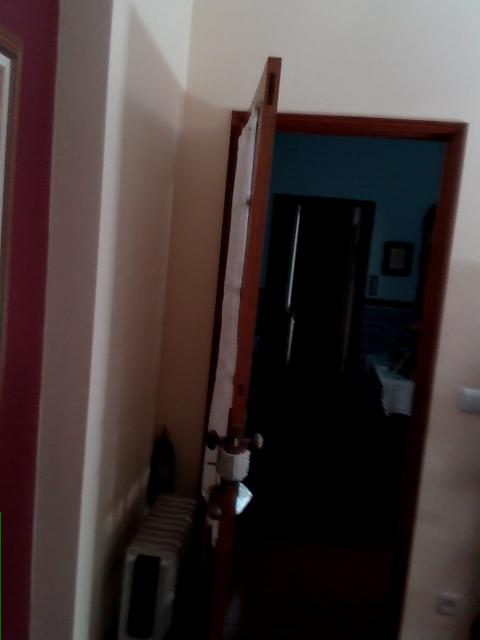open_door: (197, 106, 469, 639)
